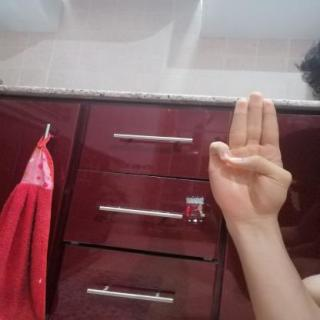THA: (198, 84, 301, 228)
